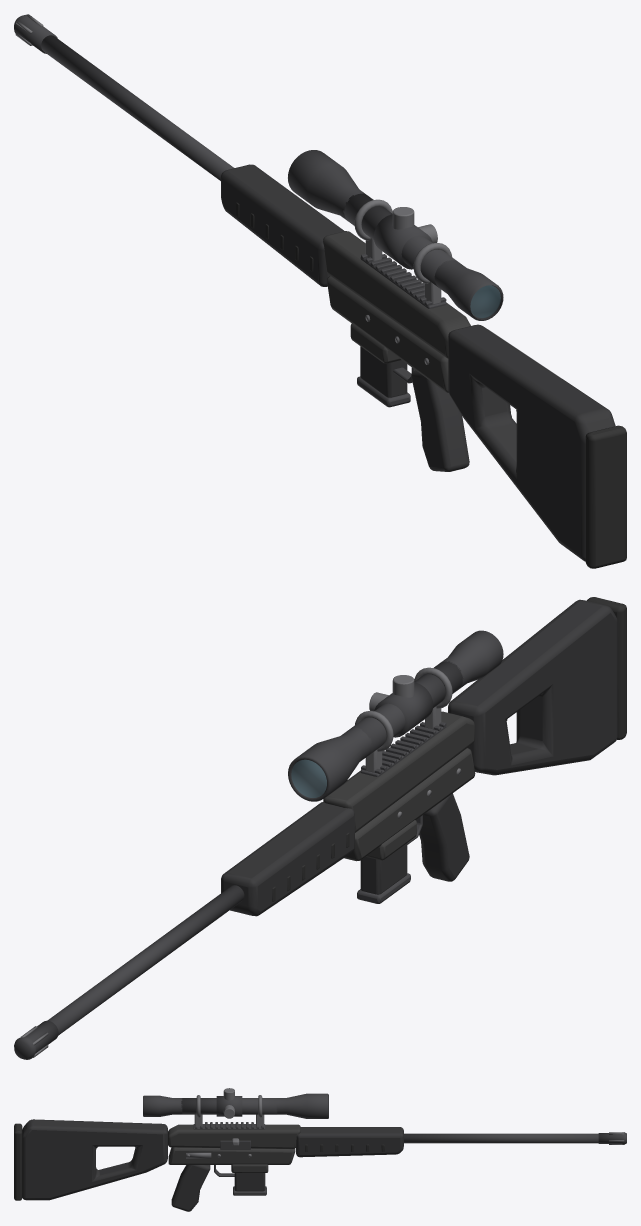
The model's file is w_ssg08.glb.
The picture shows the model from 3 angles, top to bottom: view 1: azimuth 30°, elevation 25°; view 2: azimuth 150°, elevation 25°; view 3: azimuth 270°, elevation 25°; orthographic projection. The views are drawn at different scales.
Visible parts, largest first — view 1: body, mag; view 2: body, mag; view 3: body, mag.
Part boxes in pixels (left/top/right/bottom): body: left=14, top=14, right=626, bottom=568; mag: left=357, top=346, right=410, bottom=407; body: left=14, top=597, right=626, bottom=1059; mag: left=357, top=843, right=410, bottom=903; body: left=14, top=1088, right=626, bottom=1211; mag: left=233, top=1173, right=266, bottom=1195.
Size of the model in its own units: 0.0523 by 0.2255 by 1.05.
